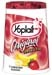grozi_120: (2, 0, 50, 75)
